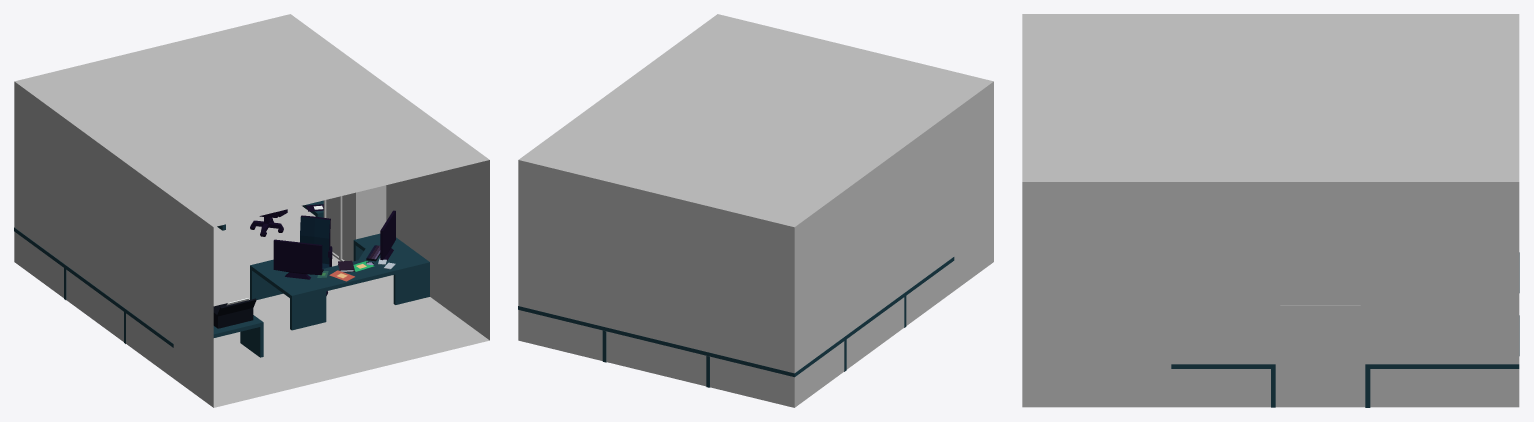
File: MenuSalaPesquisas.fbx
The picture shows the model from 3 angles, left to right: view 1: azimuth 30°, elevation 25°; view 2: azimuth 150°, elevation 25°; view 3: azimuth 270°, elevation 25°; orthographic projection. The views are drawn at different scales.
Visible parts, largest first — view 1: Paredes.001, Chao.001, Bancada, Servidor, Eletronicos, BagunçaMesa.001, Cadeiras; view 2: Paredes.001, Bancada; view 3: Paredes.001, Bancada.
Boxes of the visible parts, x1,y1,x2,y2 form: Paredes.001: (14,14,489,407); Chao.001: (213,206,489,407); Bancada: (14,200,429,357); Servidor: (323,185,386,261); Eletronicos: (273,210,395,279); BagunçaMesa.001: (213,204,395,328); Cadeiras: (250,209,332,295); Paredes.001: (518,14,993,407); Bancada: (518,257,954,387); Paredes.001: (1022,14,1519,407); Bancada: (1171,252,1519,407).
Bounding box in the file's own units: 8.02 × 5.01 × 10.01.
